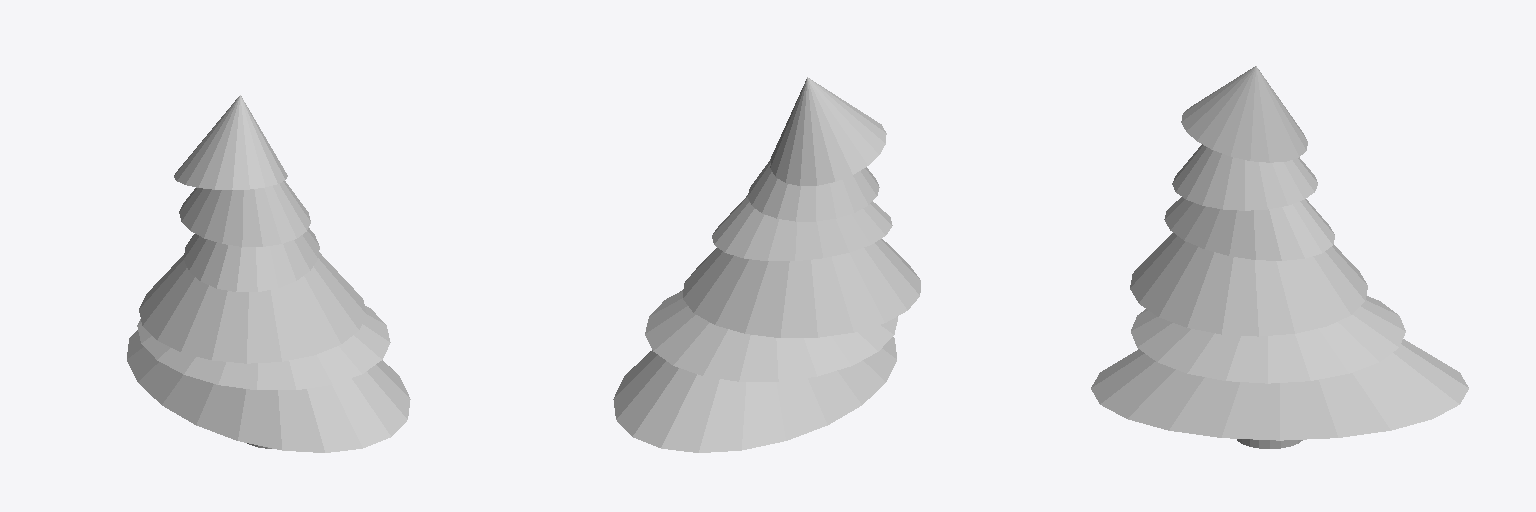
The model's file is pine tree colored.obj.
3 renders of one model, left to right at view 1: azimuth 30°, elevation 25°; view 2: azimuth 150°, elevation 25°; view 3: azimuth 270°, elevation 25°, orthographic.
Parts seen in each view (by area): view 1: Pine_Tree_Tier_1 Tier_4, Pine_Tree_Tier_1 Tier_2, Pine_Tree_Tier_1 Tier_3, Pine_Tree_Tier_1 Tier_6, Pine_Tree_Tier_1 Tier_7, Pine_Tree_Tier_1 Tier_5; view 2: Pine_Tree_Tier_1 Tier_2, Pine_Tree_Tier_1 Tier_4, Pine_Tree_Tier_1 Tier_3, Pine_Tree_Tier_1 Tier_7, Pine_Tree_Tier_1 Tier_5, Pine_Tree_Tier_1 Tier_6; view 3: Pine_Tree_Tier_1 Tier_2, Pine_Tree_Tier_1 Tier_4, Pine_Tree_Tier_1 Tier_3, Pine_Tree_Tier_1 Tier_5, Pine_Tree_Tier_1 Tier_7, Pine_Tree_Tier_1 Tier_6.
Part boxes in pixels (x1,y1,x2,y2): Pine_Tree_Tier_1 Tier_4: (139,252,366,363); Pine_Tree_Tier_1 Tier_2: (127,330,410,452); Pine_Tree_Tier_1 Tier_3: (137,306,390,389); Pine_Tree_Tier_1 Tier_6: (179,181,310,246); Pine_Tree_Tier_1 Tier_7: (174,95,287,189); Pine_Tree_Tier_1 Tier_5: (184,228,319,291); Pine_Tree_Tier_1 Tier_2: (613,337,896,452); Pine_Tree_Tier_1 Tier_4: (683,239,920,337); Pine_Tree_Tier_1 Tier_3: (645,290,897,381); Pine_Tree_Tier_1 Tier_7: (770,77,886,185); Pine_Tree_Tier_1 Tier_5: (712,195,892,260); Pine_Tree_Tier_1 Tier_6: (748,159,879,221); Pine_Tree_Tier_1 Tier_2: (1091,339,1468,440); Pine_Tree_Tier_1 Tier_4: (1130,233,1367,336); Pine_Tree_Tier_1 Tier_3: (1131,296,1405,383); Pine_Tree_Tier_1 Tier_5: (1164,197,1334,260); Pine_Tree_Tier_1 Tier_7: (1181,66,1307,162); Pine_Tree_Tier_1 Tier_6: (1172,144,1317,210).
Size of the model in its own units: 7.97 by 11.28 by 10.93.